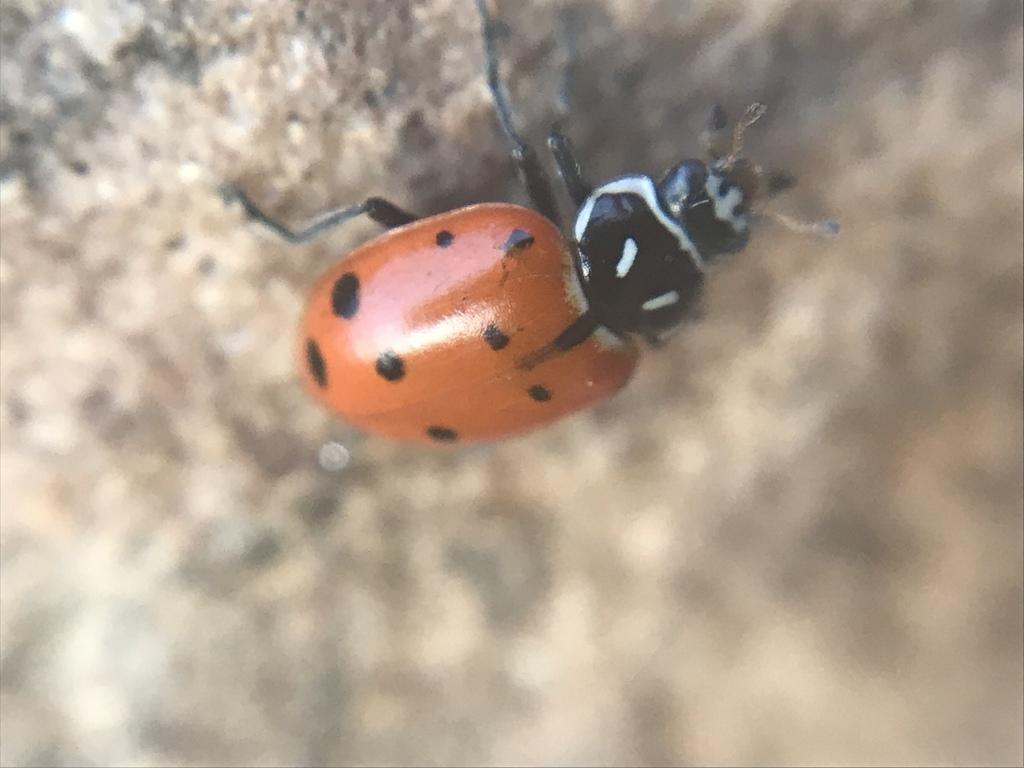ladybug: (209, 1, 851, 457)
